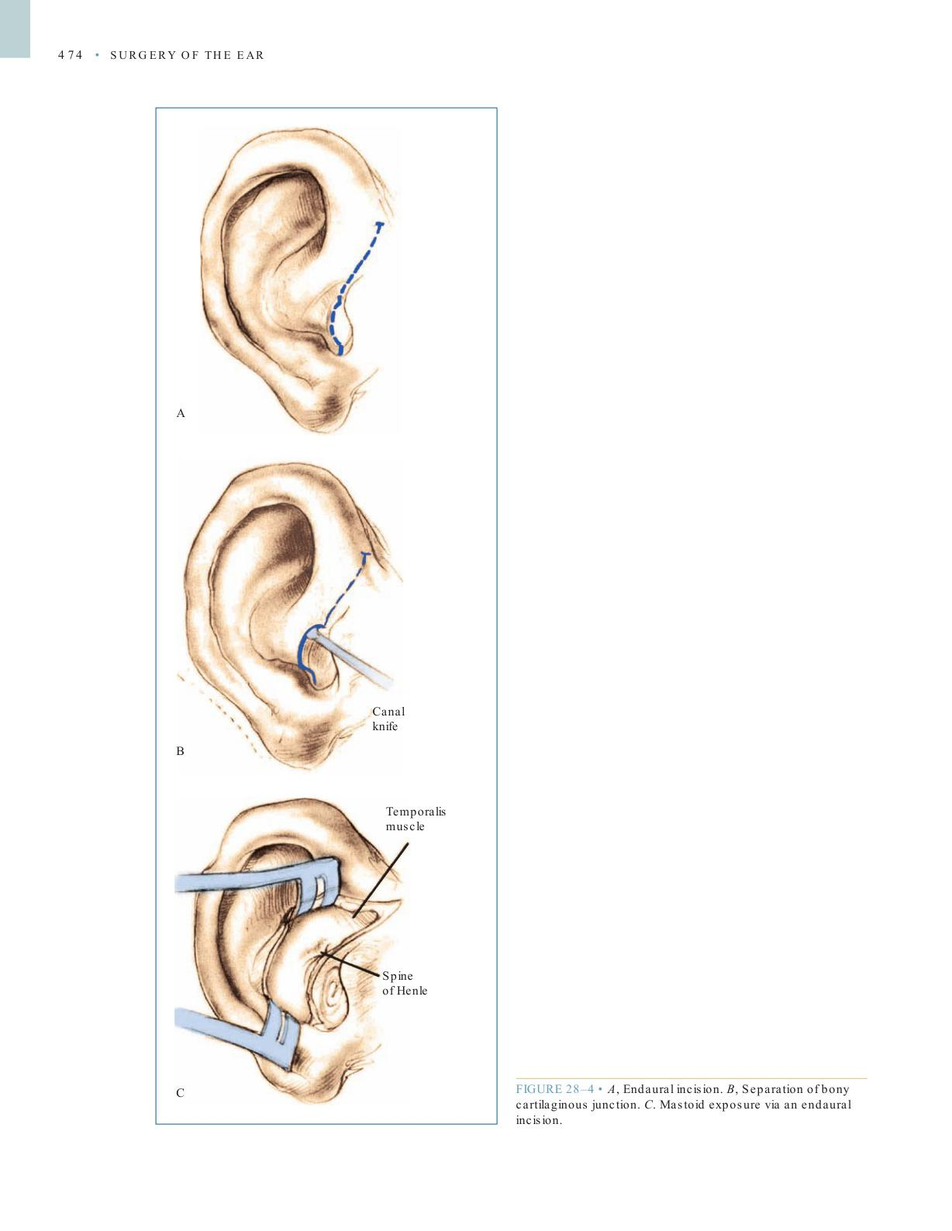caption: (514, 1082, 853, 1125), (175, 1087, 186, 1098), (175, 408, 186, 418), (175, 746, 185, 756)
header: (109, 49, 265, 60)
image: (170, 793, 456, 1109), (170, 458, 412, 775), (194, 123, 407, 440)
